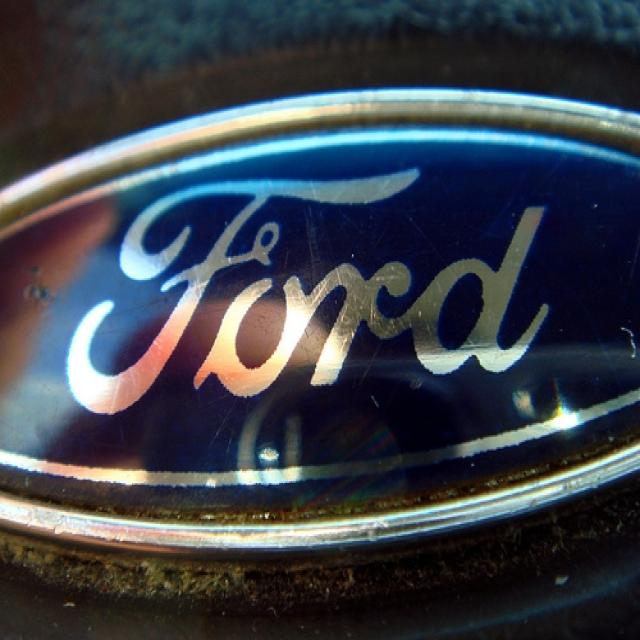ford: (2, 79, 640, 566)
